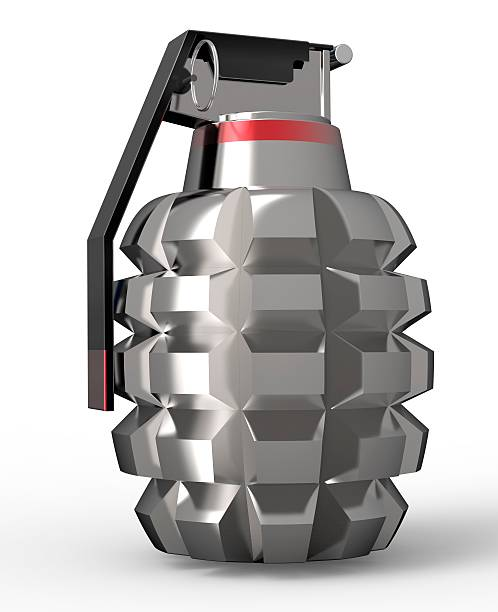e1: (90, 27, 432, 562)
